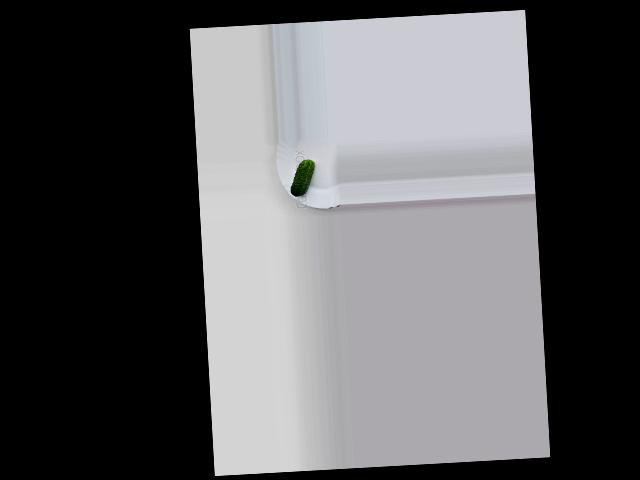cucumber: (289, 159, 316, 196)
